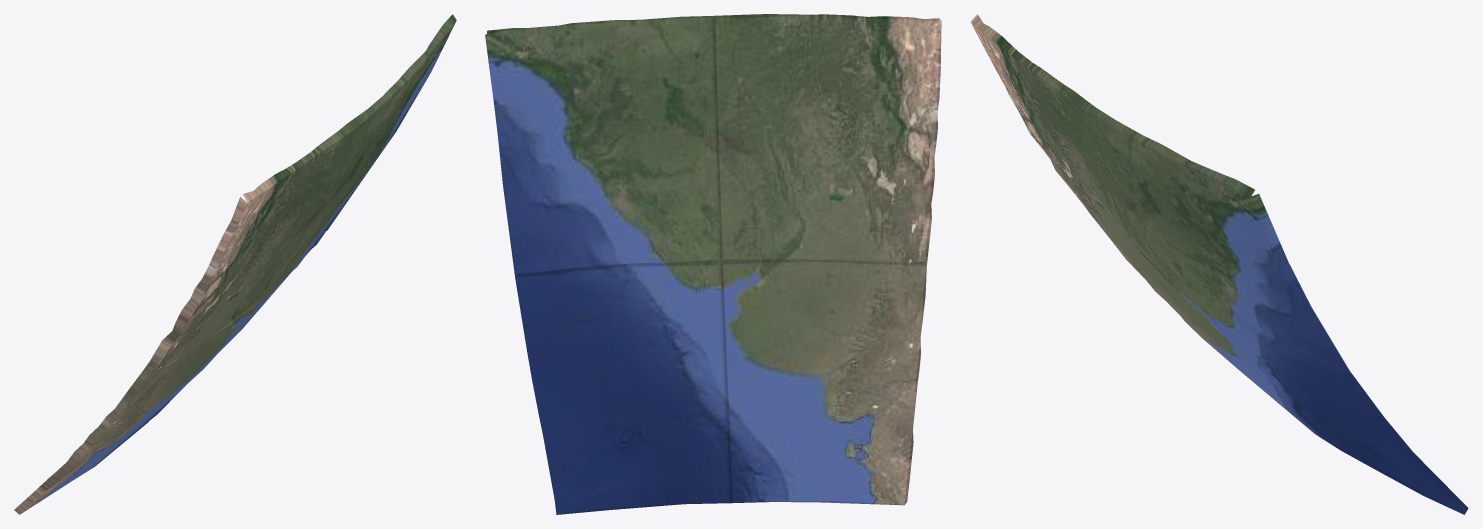
3 views of the same model, side by side, from view 1: azimuth 30°, elevation 25°; view 2: azimuth 150°, elevation 25°; view 3: azimuth 270°, elevation 25° (orthographic). The views are drawn at different scales.
Size of the model in its own units: 2468048 by 2102774 by 2291649.
Materials: 1 (1 with a texture image).
